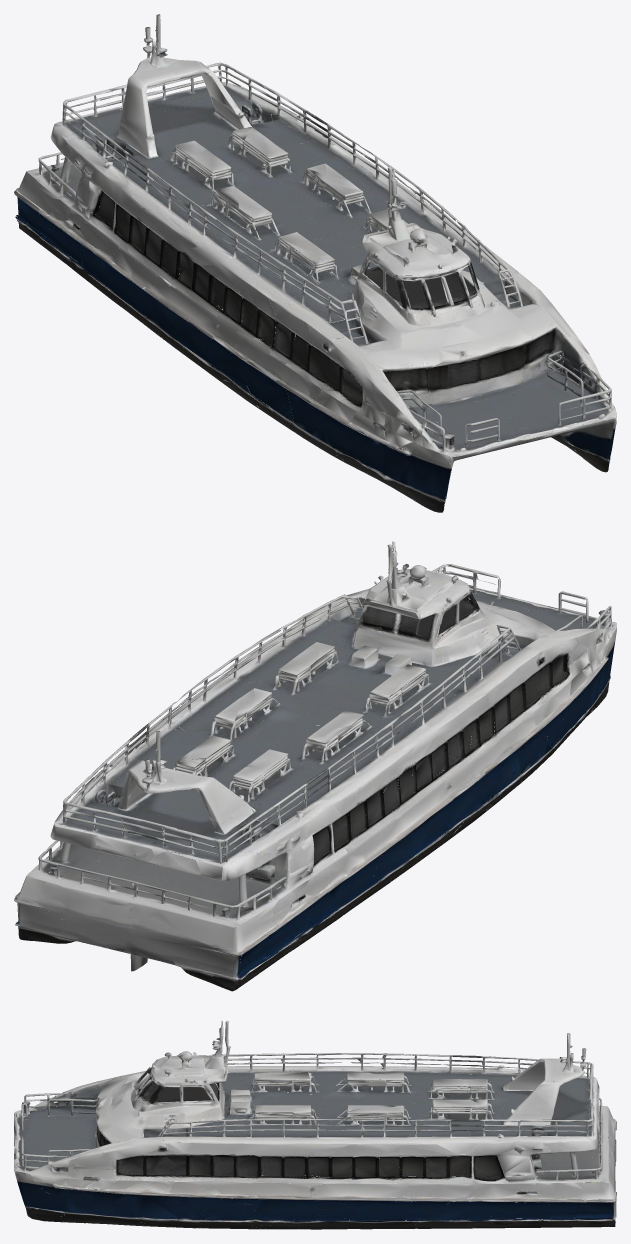
Rendered from h_ferry.glb.
3 renders of one model, top to bottom at view 1: azimuth 30°, elevation 25°; view 2: azimuth 150°, elevation 25°; view 3: azimuth 270°, elevation 25°, orthographic. The views are drawn at different scales.
Visible parts, largest first — view 1: tripo_node_1b661a4b-b0de-4c34-ab5a-2c31f19b0d56; view 2: tripo_node_1b661a4b-b0de-4c34-ab5a-2c31f19b0d56; view 3: tripo_node_1b661a4b-b0de-4c34-ab5a-2c31f19b0d56.
Part boxes in pixels (bbox=[...]): tripo_node_1b661a4b-b0de-4c34-ab5a-2c31f19b0d56: bbox=[14, 14, 616, 512]; tripo_node_1b661a4b-b0de-4c34-ab5a-2c31f19b0d56: bbox=[14, 541, 616, 991]; tripo_node_1b661a4b-b0de-4c34-ab5a-2c31f19b0d56: bbox=[14, 1020, 616, 1229].
Size of the model in its own units: 0.3331 by 0.3149 by 0.9818.
Materials: 1 (1 with a texture image).
